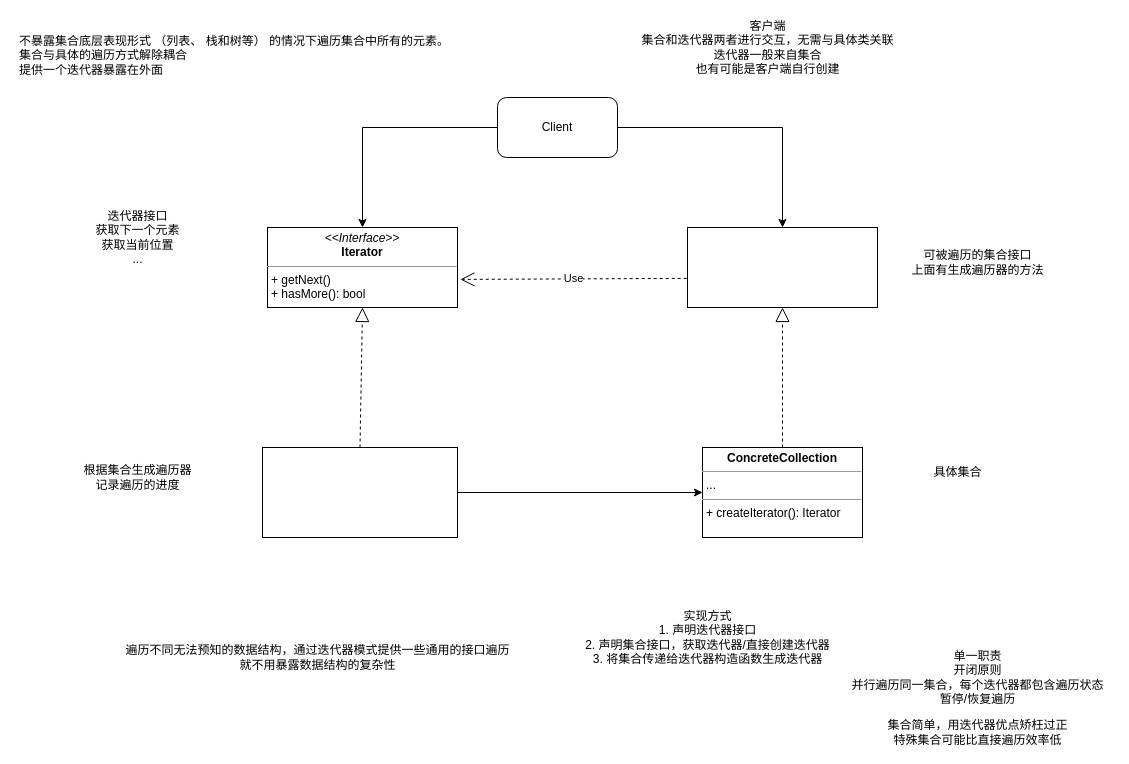
This 1129x764 diagram has some shape labels left out. The box of each missing label's shape, as (x1, y1, x2, y2) in pixels:
<<Interface>> IterableCollection + createIterator(): Iterator: (686, 226, 878, 308)
ConcreteIterator - collection: ConcreteCollection + getNext() + hasMore(): bool: (262, 446, 458, 538)
